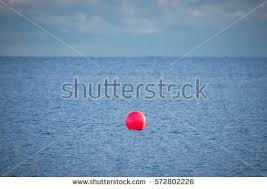buoy: (125, 111, 147, 131)
